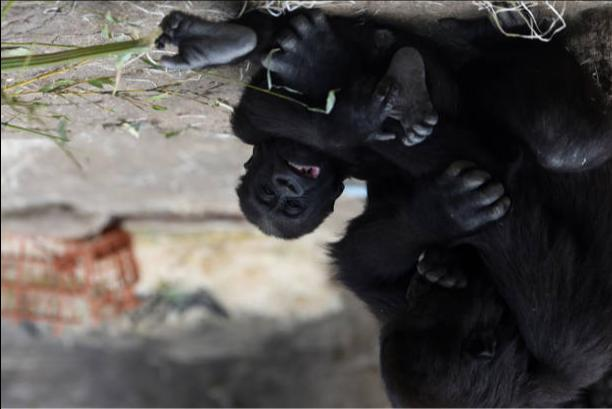gorille_Autres: (341, 22, 602, 403)
